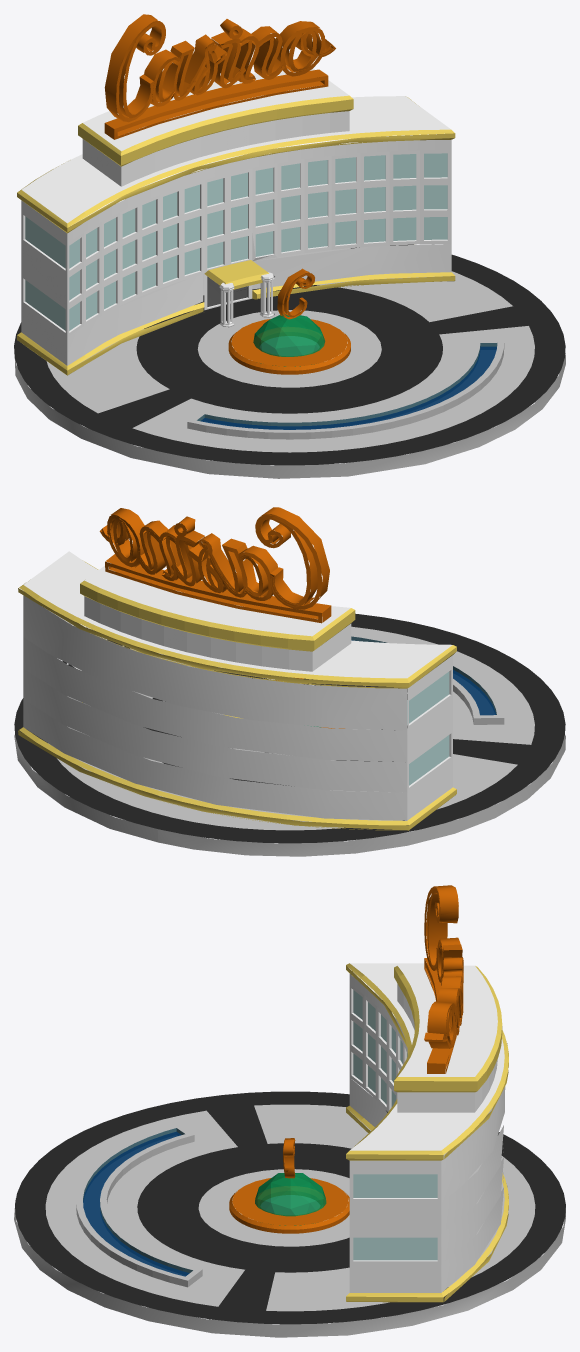
The model's file is casino.glb.
3 renders of one model, top to bottom at view 1: azimuth 30°, elevation 25°; view 2: azimuth 150°, elevation 25°; view 3: azimuth 270°, elevation 25°, orthographic.
Visible parts, largest first — view 1: Box001; view 2: Box001; view 3: Box001.
Part boxes in pixels (x1,y1,x2,y2): Box001: (14, 14, 565, 478); Box001: (14, 507, 565, 856); Box001: (14, 885, 565, 1337).
Size of the model in its own units: 177 by 107 by 177.
